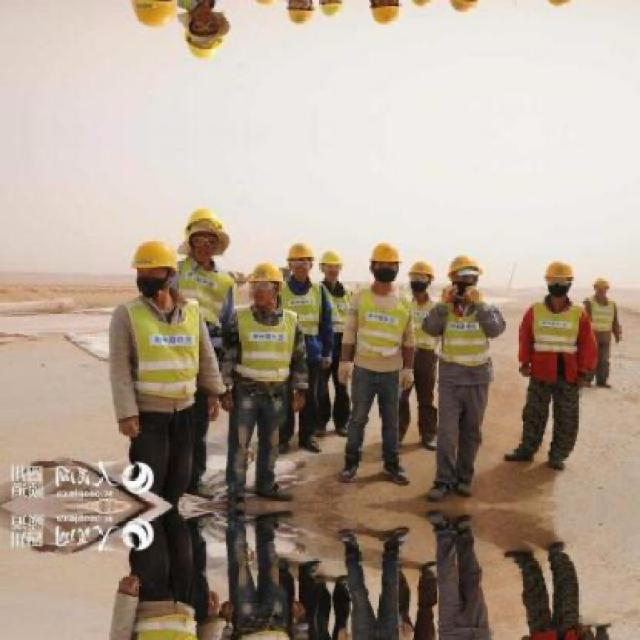helmet: (129, 234, 182, 303), (178, 1, 231, 64), (178, 202, 231, 264), (243, 257, 288, 314), (368, 235, 404, 283), (128, 0, 182, 32), (542, 255, 578, 300), (448, 251, 484, 292), (285, 237, 317, 280), (409, 255, 440, 294), (366, 0, 405, 31), (284, 0, 318, 29), (319, 249, 343, 280), (447, 0, 485, 15), (591, 274, 612, 301), (317, 0, 343, 17), (540, 0, 578, 11), (408, 0, 440, 11)
